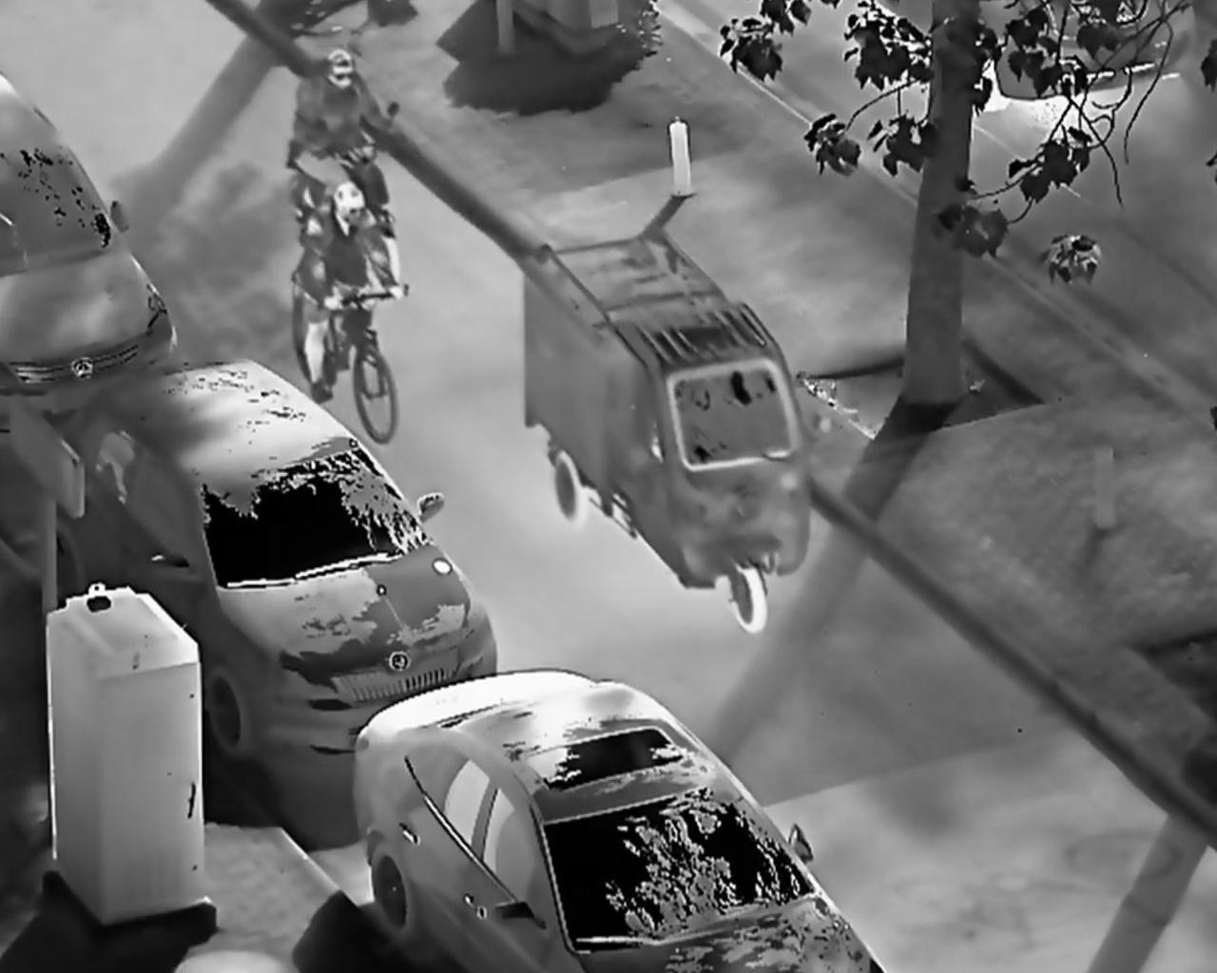person: (295, 180, 408, 407), (291, 48, 396, 217)
